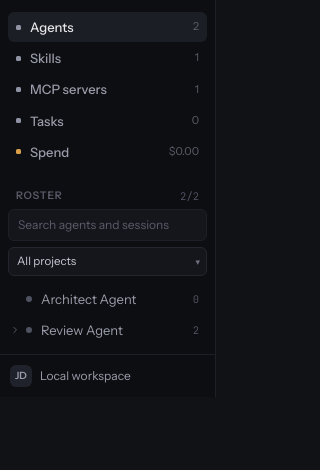
Sidebar › lists the sessions under an agent once its row is opened
Click the button named "Expand Review Agent": coordinates (14, 330) [8,322,21,338]
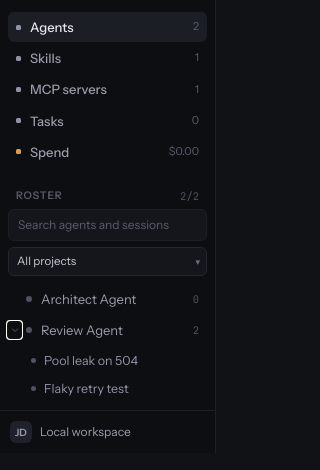
Result: the text "Pool leak on 504" is shown at [44,351,138,370]
Result: the text "Flaky retry test" is shown at [44,379,129,398]
